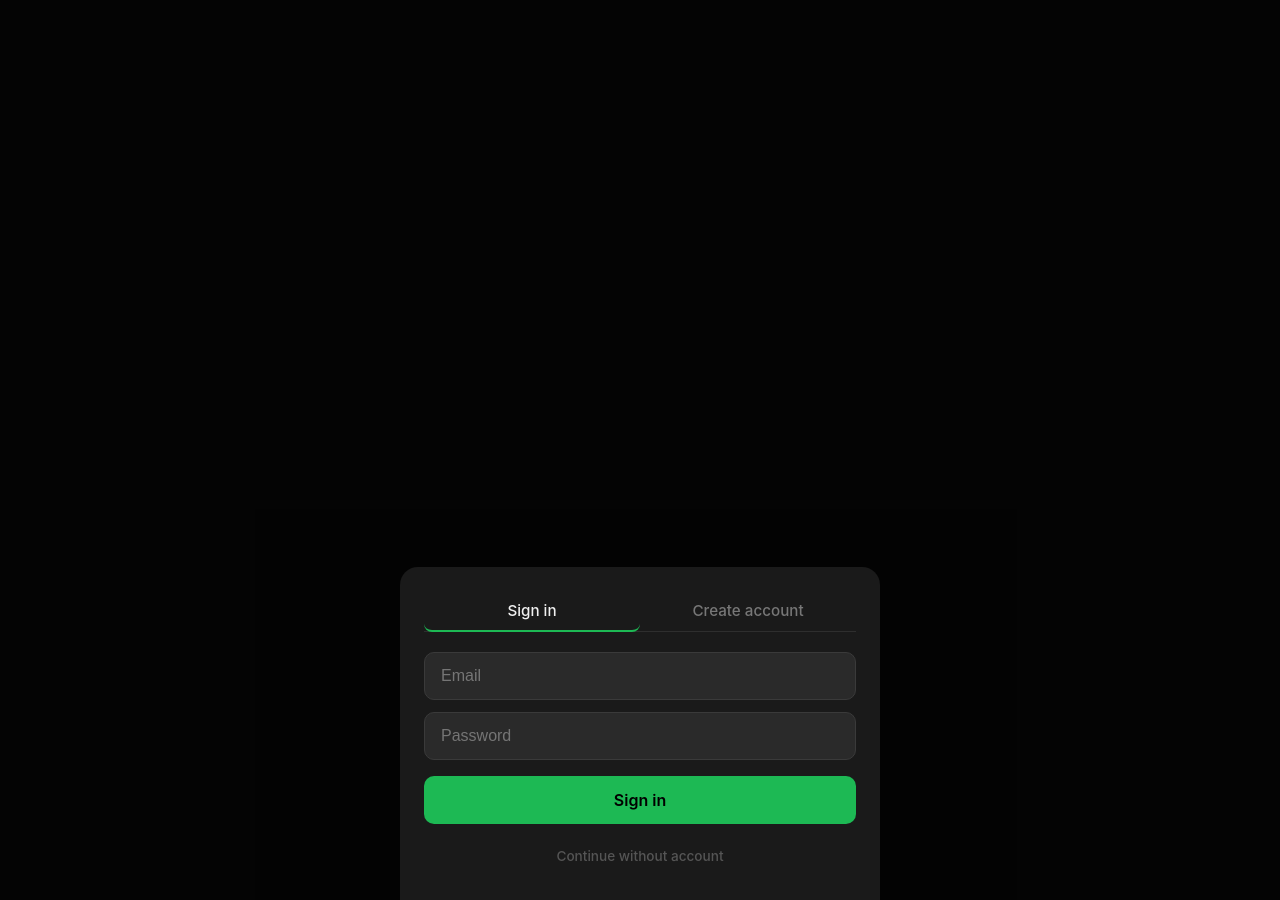
Test case: AuthModal › shows error message when signIn fails
Type "a@b.com" into the field with placeholder "Email".
click(640, 676); type("a@b.com")  # box [424,652,856,700]
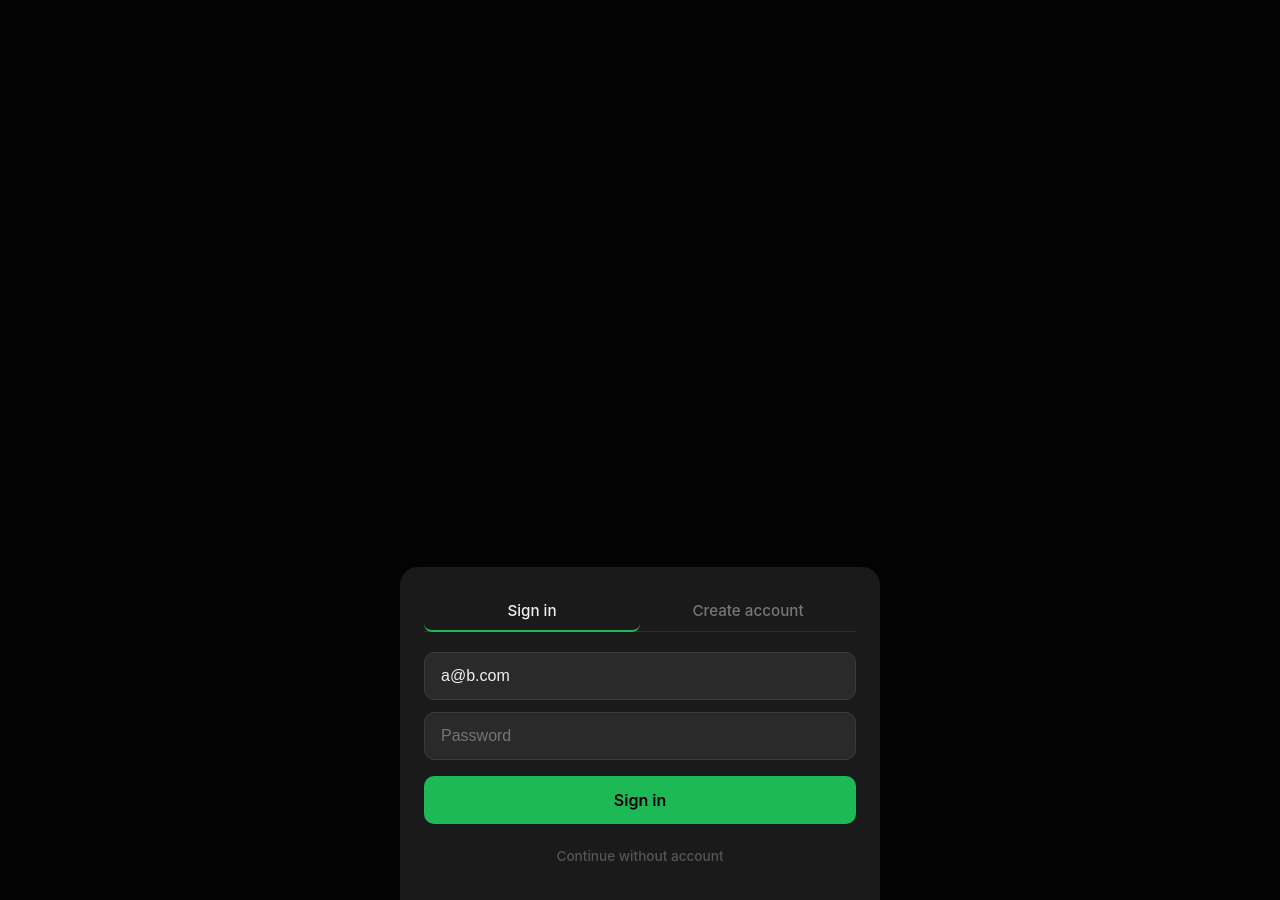
Type "wrong" into the password field with placeholder "Password".
click(640, 736); type("wrong")  # box [424,712,856,760]
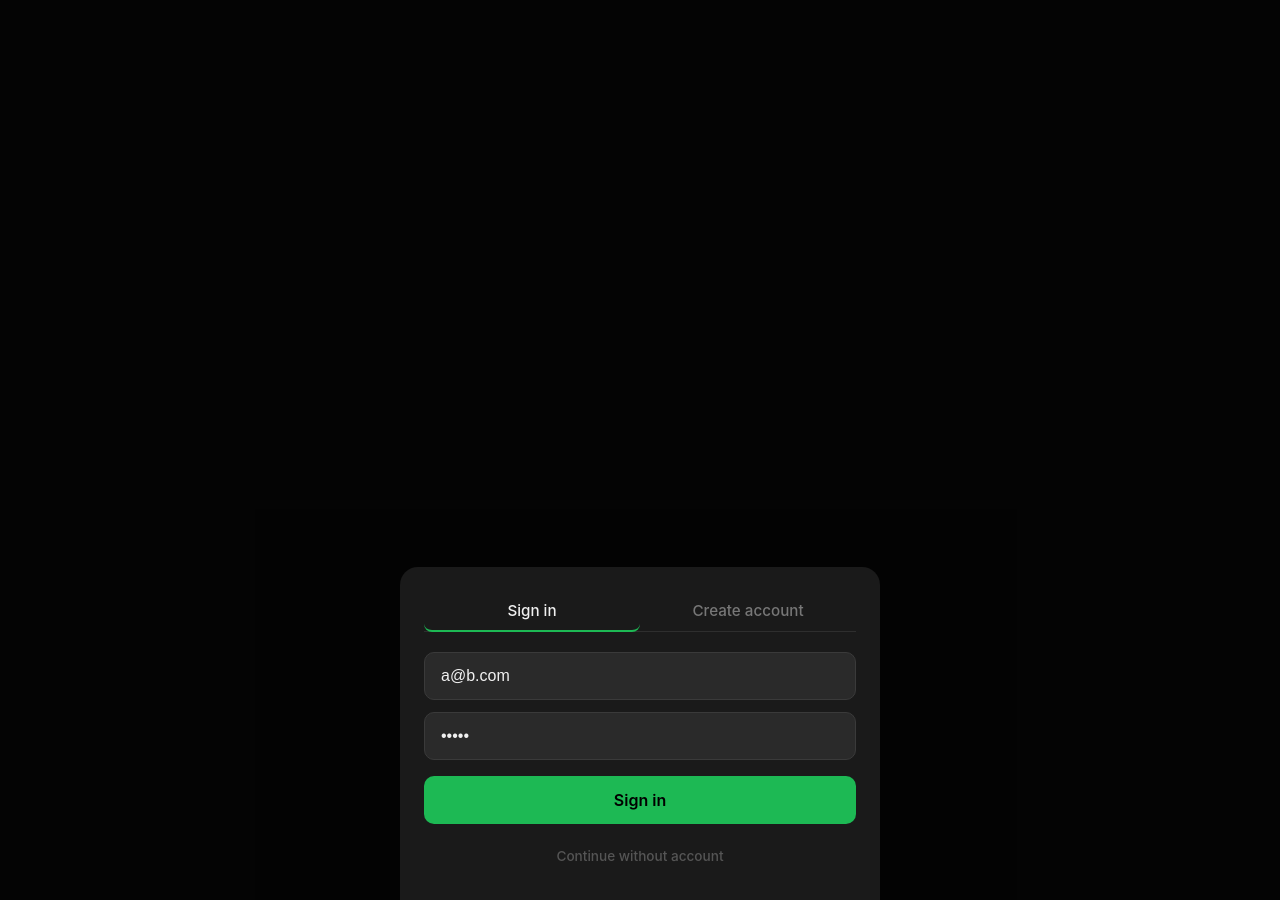
Submit the form with class "auth-form", box [424,652,856,824]
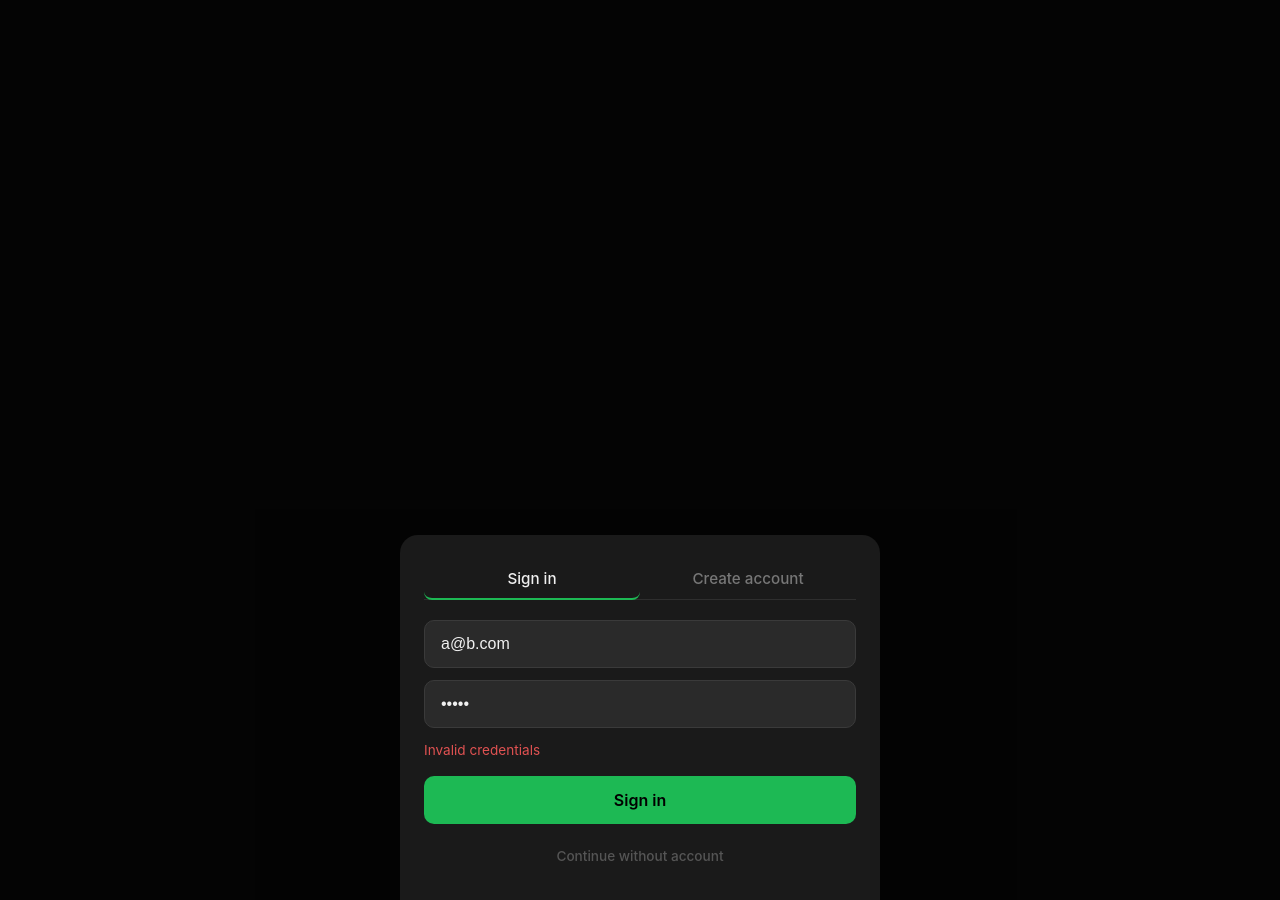
Now the text "Invalid credentials" is shown, box [424,742,540,758]
